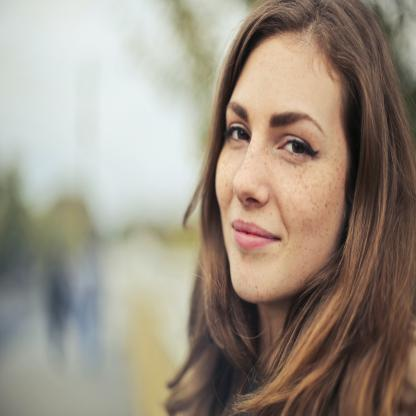Eye: (278, 129, 320, 165), (226, 118, 250, 152)
Mouth: (228, 213, 286, 256)
Nose: (231, 143, 269, 208)
